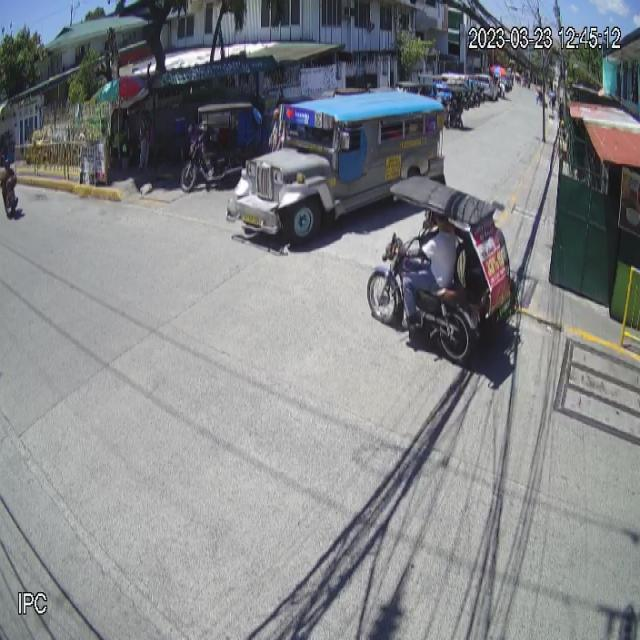Jeep: (225, 88, 447, 248)
Tricycle: (366, 173, 520, 361)
